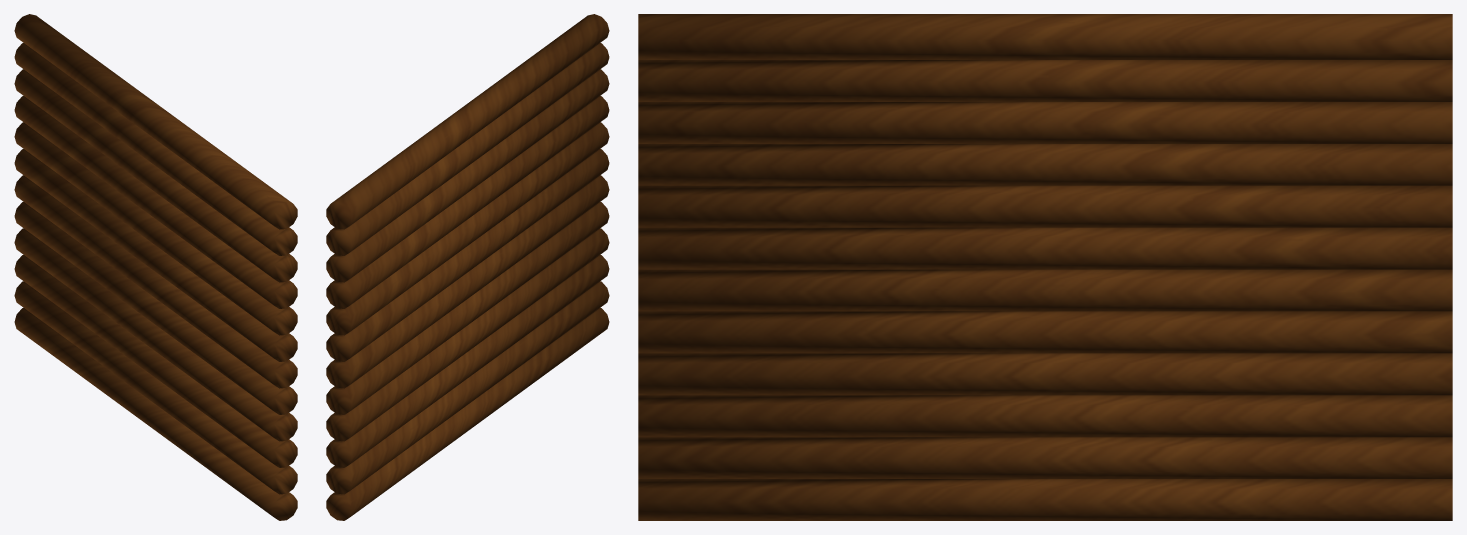
Rendered from WoodenWall.fbx.
3 renders of one model, left to right at view 1: azimuth 30°, elevation 25°; view 2: azimuth 150°, elevation 25°; view 3: azimuth 270°, elevation 25°, orthographic. The views are drawn at different scales.
Parts seen in each view (by area): view 1: WoodenWall; view 2: WoodenWall; view 3: WoodenWall.
Boxes of the visible parts, bbox=[...] form: WoodenWall: bbox=[14, 14, 297, 520]; WoodenWall: bbox=[326, 14, 609, 520]; WoodenWall: bbox=[638, 14, 1452, 520].
Size of the model in its own units: 34.74 by 411 by 603.
